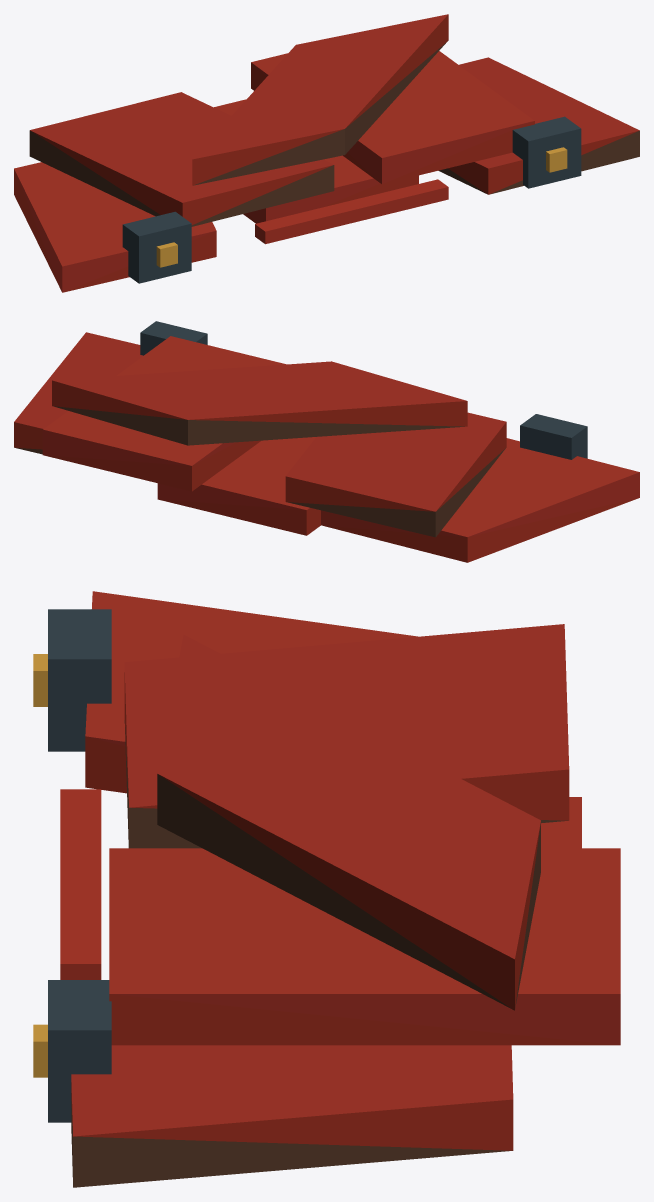
File: scrap-planks-coral.glb
3 renders of one model, top to bottom at view 1: azimuth 30°, elevation 25°; view 2: azimuth 150°, elevation 25°; view 3: azimuth 270°, elevation 25°, orthographic. The views are drawn at different scales.
Parts seen in each view (by area): view 1: scrap-planks-coral; view 2: scrap-planks-coral; view 3: scrap-planks-coral.
Part boxes in pixels (bbox=[...]): scrap-planks-coral: bbox=[14, 14, 639, 292]; scrap-planks-coral: bbox=[14, 321, 639, 562]; scrap-planks-coral: bbox=[33, 591, 620, 1187].
Bounding box in the file's own units: 1.52 × 0.2 × 0.6915.
